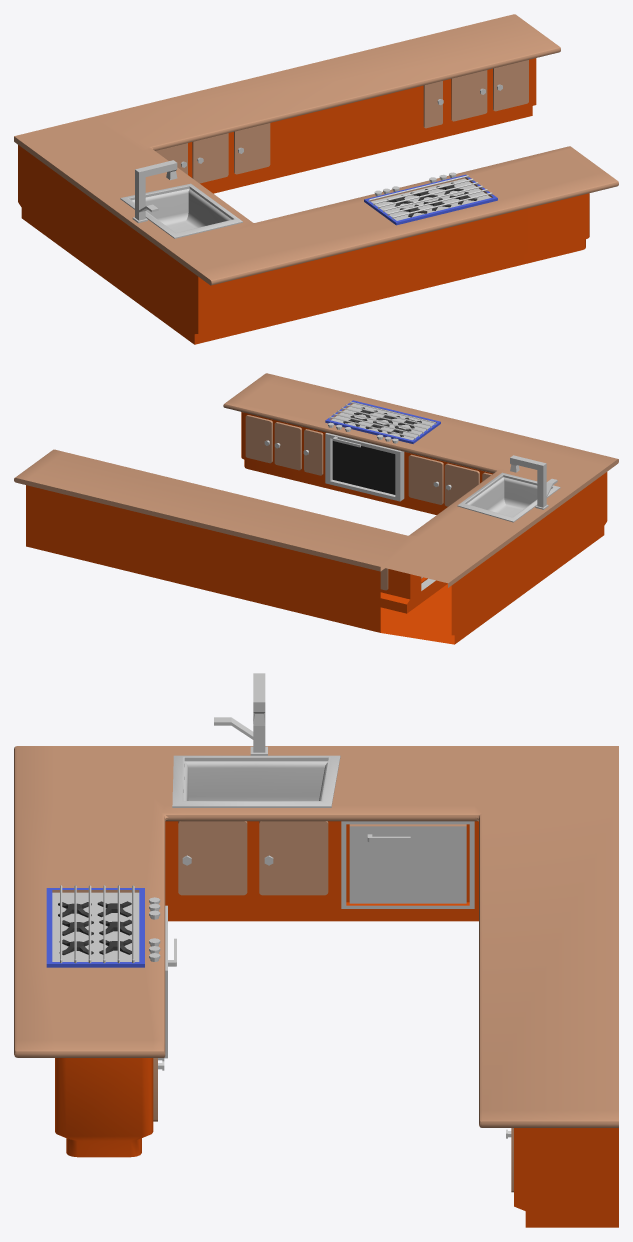
The model's file is KitchenCounter_v1.fbx.
The picture shows the model from 3 angles, top to bottom: view 1: azimuth 30°, elevation 25°; view 2: azimuth 150°, elevation 25°; view 3: azimuth 270°, elevation 25°; orthographic projection. The views are drawn at different scales.
Visible parts, largest first — view 1: Cube.002; view 2: Cube.002; view 3: Cube.002.
Part boxes in pixels (bbox=[...]): Cube.002: bbox=[14, 14, 618, 344]; Cube.002: bbox=[14, 373, 618, 644]; Cube.002: bbox=[14, 673, 618, 1227].
Size of the model in its own units: 534 by 129 by 364.
